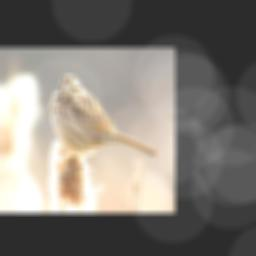Sparrow: (48, 73, 159, 179)
